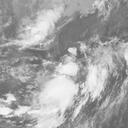cyclone: (39, 62, 79, 107)
